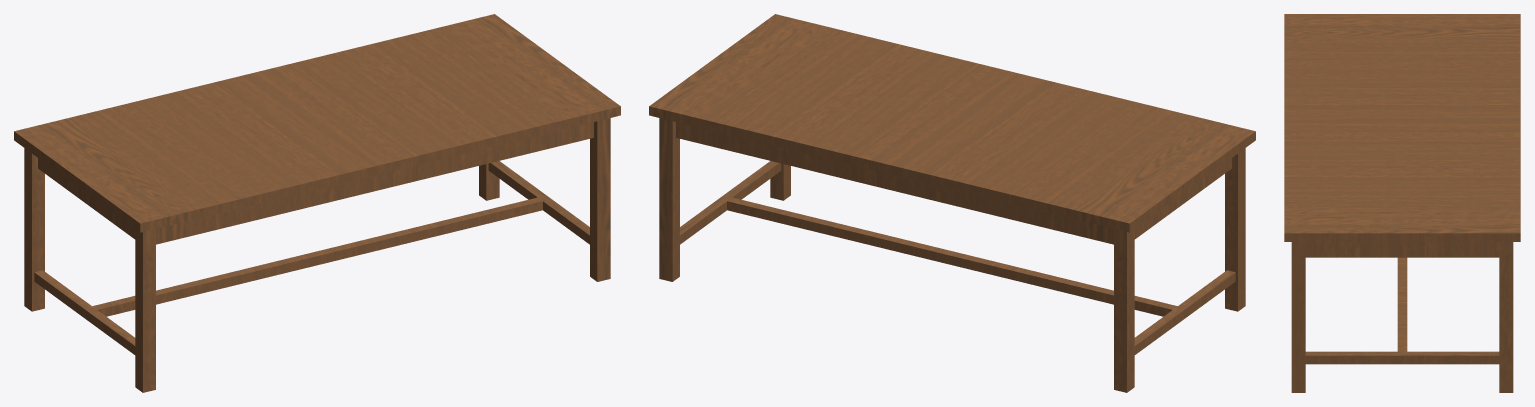
Rendered from Table_Large.fbx.
3 renders of one model, left to right at view 1: azimuth 30°, elevation 25°; view 2: azimuth 150°, elevation 25°; view 3: azimuth 270°, elevation 25°, orthographic. The views are drawn at different scales.
Parts seen in each view (by area): view 1: стол для ординаторской; view 2: стол для ординаторской; view 3: стол для ординаторской.
Boxes of the visible parts, x1,y1,x2,y2 form: стол для ординаторской: [14, 14, 620, 392]; стол для ординаторской: [649, 14, 1255, 392]; стол для ординаторской: [1284, 14, 1520, 392].
Bounding box in the file's own units: 2.2 × 0.76 × 1.
1 material, 1 textured.
